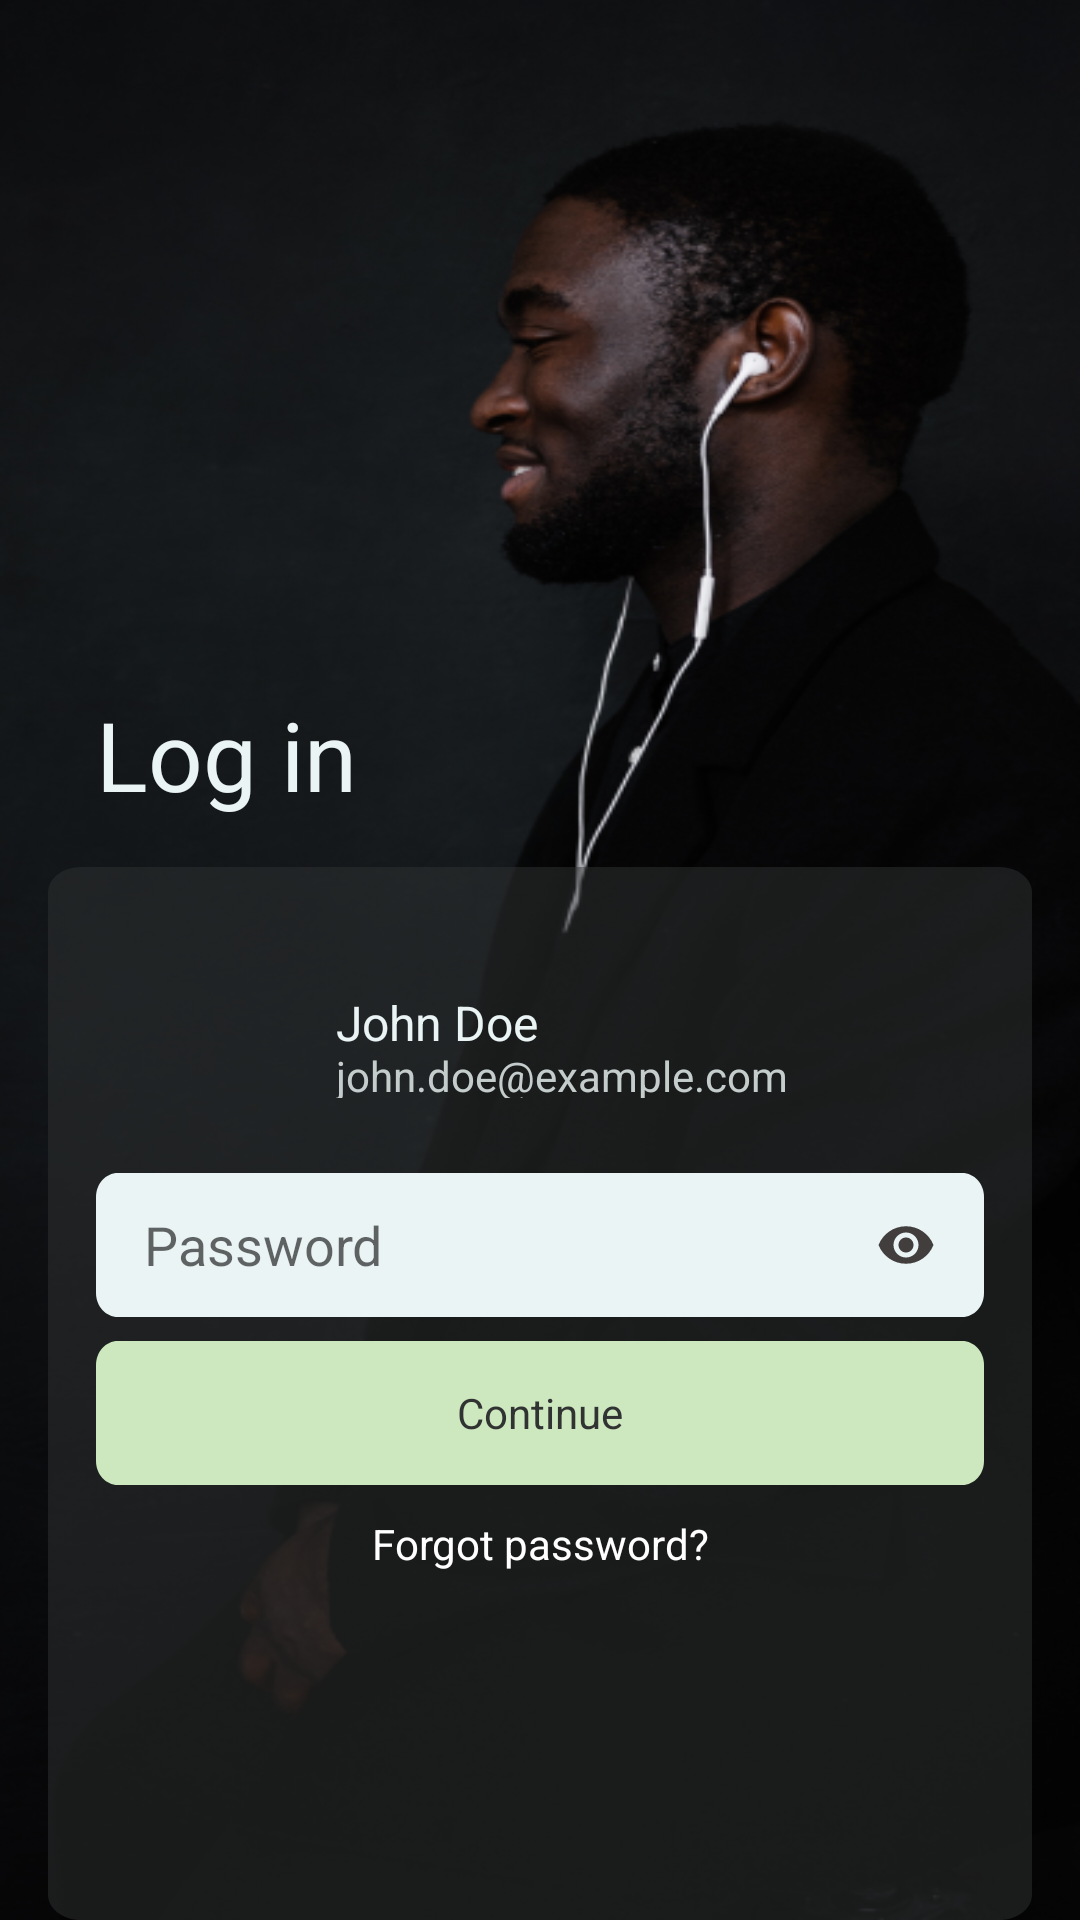

Icon bounding boxes for this 1080 x 1920 phone screenshot, format (x1, y1, x2, y2):
visibility: (878, 1226, 934, 1264)
